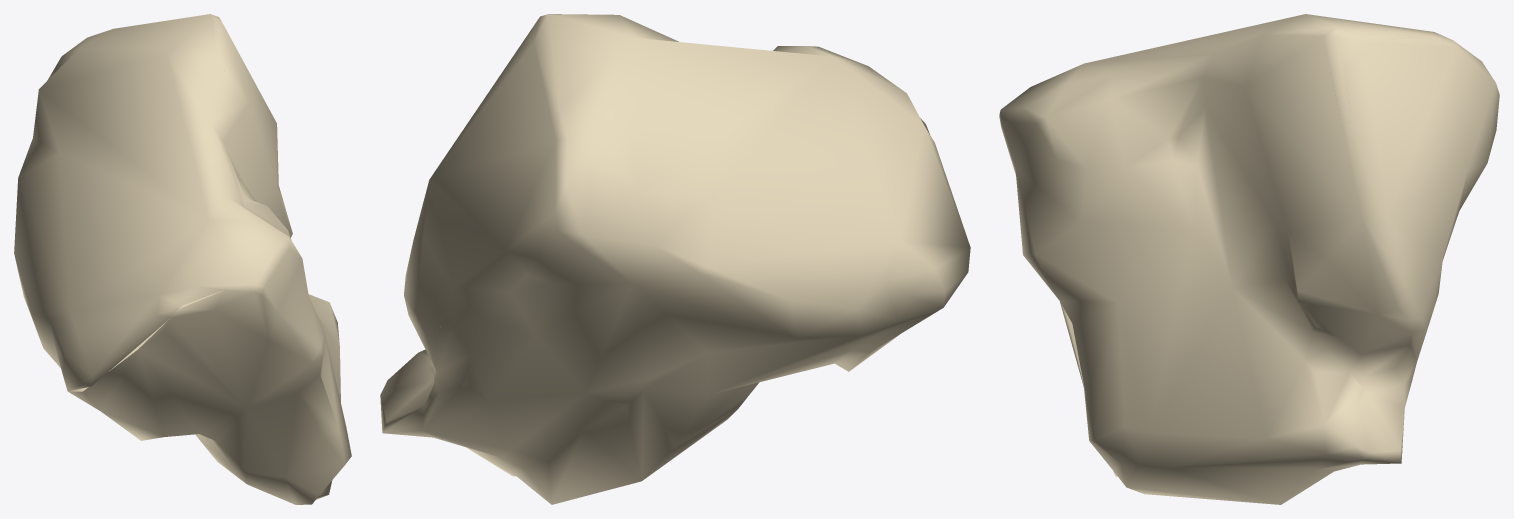
File: esqueleto-lateral-cuneiform-bone-r.glb
3 renders of one model, left to right at view 1: azimuth 30°, elevation 25°; view 2: azimuth 150°, elevation 25°; view 3: azimuth 270°, elevation 25°, orthographic. The views are drawn at different scales.
Parts seen in each view (by area): view 1: Lateral cuneiform bone.r; view 2: Lateral cuneiform bone.r; view 3: Lateral cuneiform bone.r.
Boxes of the visible parts, x1,y1,x2,y2 form: Lateral cuneiform bone.r: (14,14,351,504); Lateral cuneiform bone.r: (380,14,970,504); Lateral cuneiform bone.r: (999,14,1499,504).
Bounding box in the file's own units: 0.0241 × 0.0269 × 0.0265.
